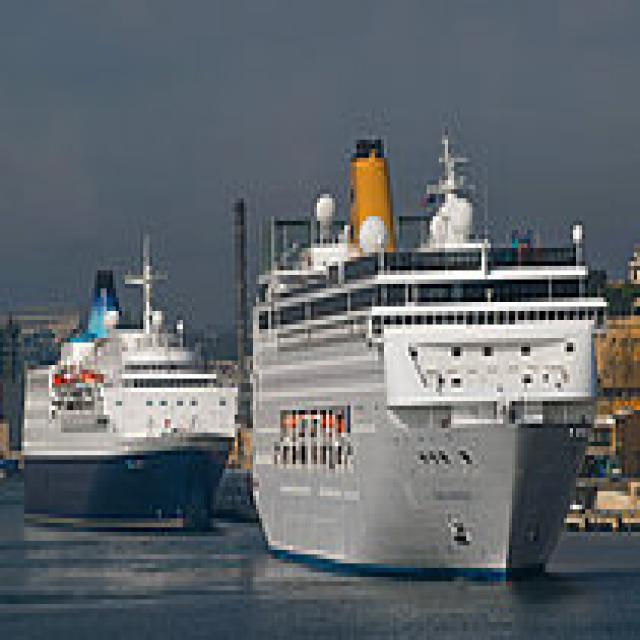Ship: (233, 109, 611, 578), (13, 217, 254, 533)
